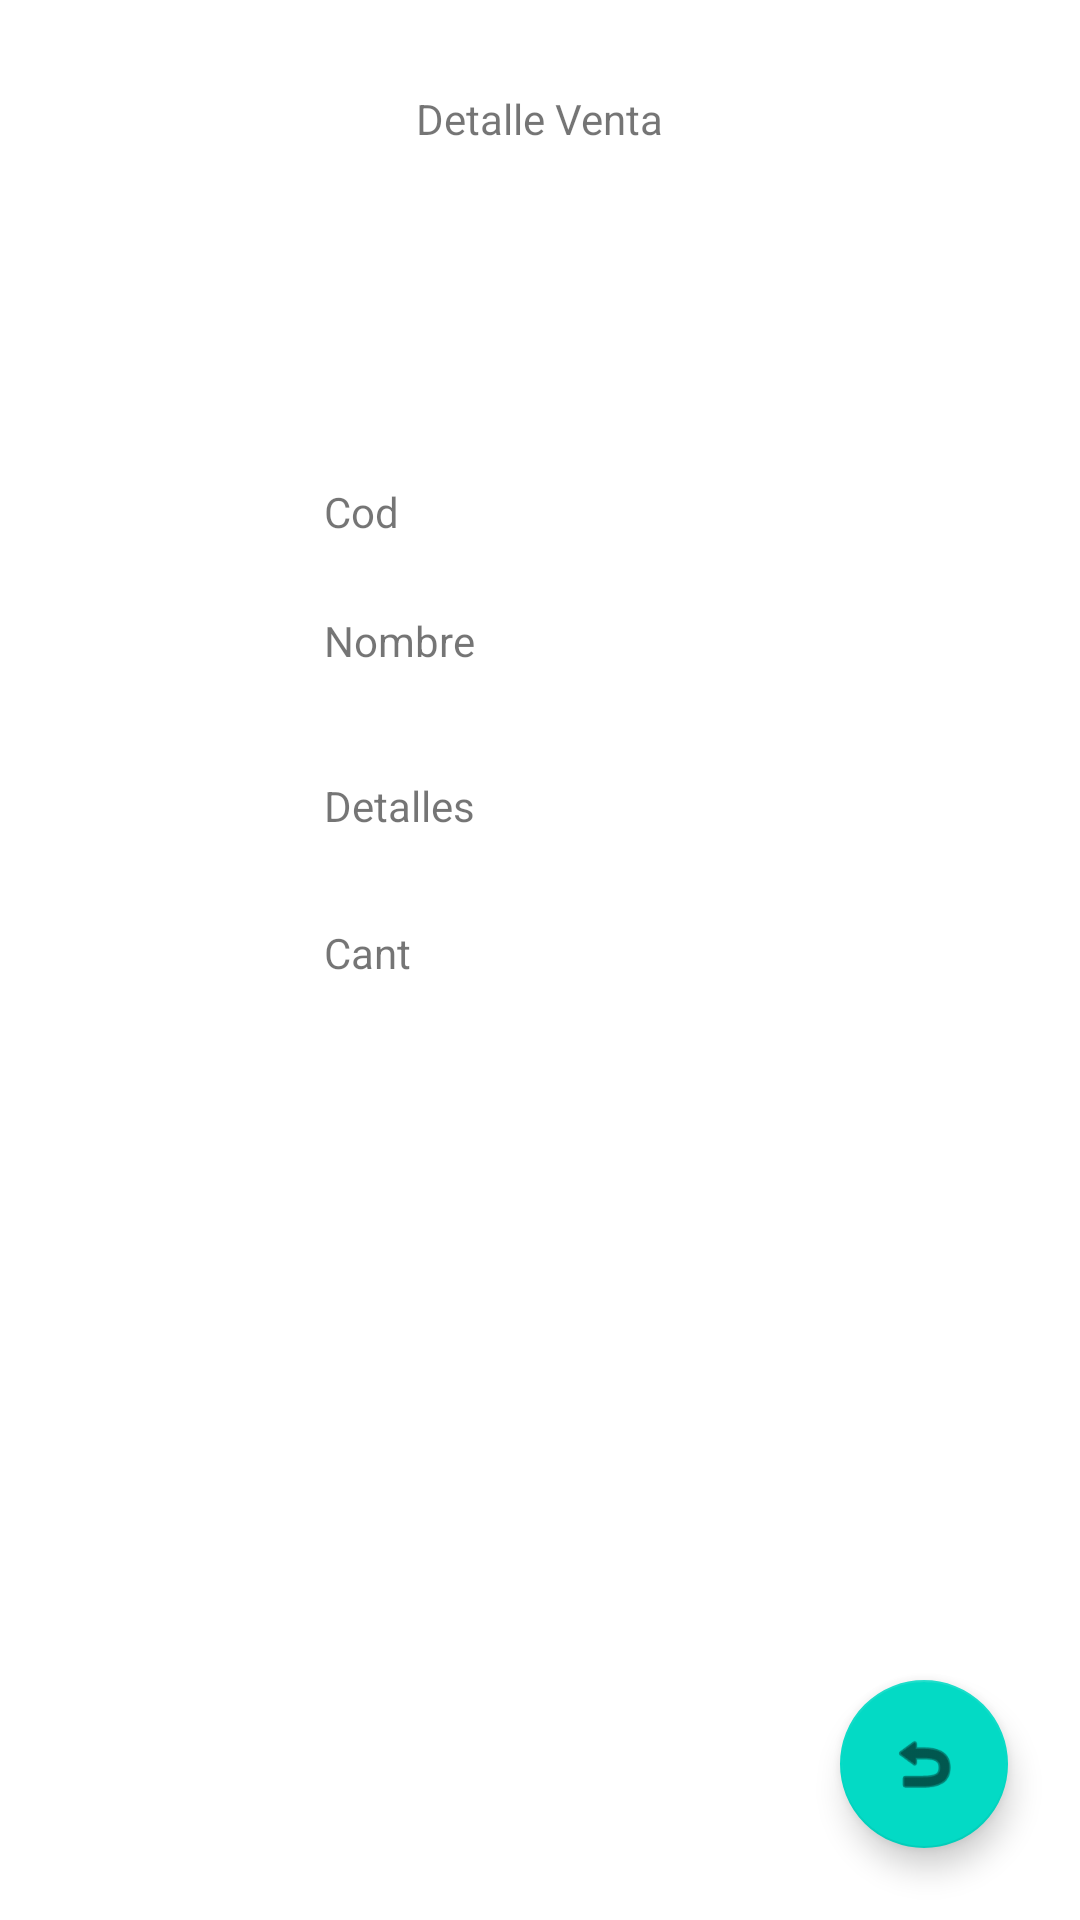

Icons on this 1080×1920 Android screen, each with its box as (x1, y1, x2, y2):
revert: (840, 1680, 1008, 1848)
